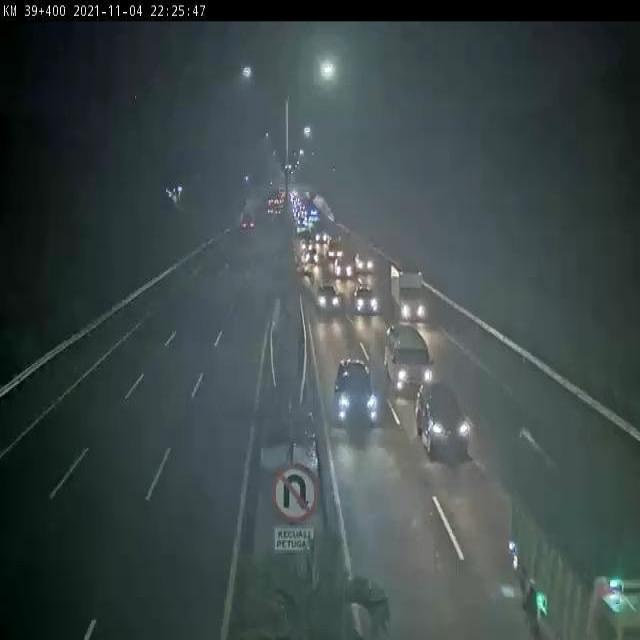car: (411, 369, 475, 467), (326, 348, 383, 439), (383, 325, 432, 399), (316, 280, 342, 323), (356, 290, 381, 330), (353, 245, 380, 279), (333, 255, 354, 280), (239, 209, 257, 235), (300, 259, 322, 280)
truck-m-: (502, 420, 640, 640)
truck-s-: (388, 269, 430, 328)
